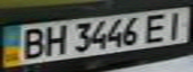3: (69, 20, 93, 53)
4: (90, 17, 112, 51), (106, 16, 127, 48)
6: (121, 14, 148, 47)
B: (15, 25, 48, 61)
E: (139, 11, 175, 44)
H: (39, 22, 69, 56)
I: (160, 8, 190, 39)
